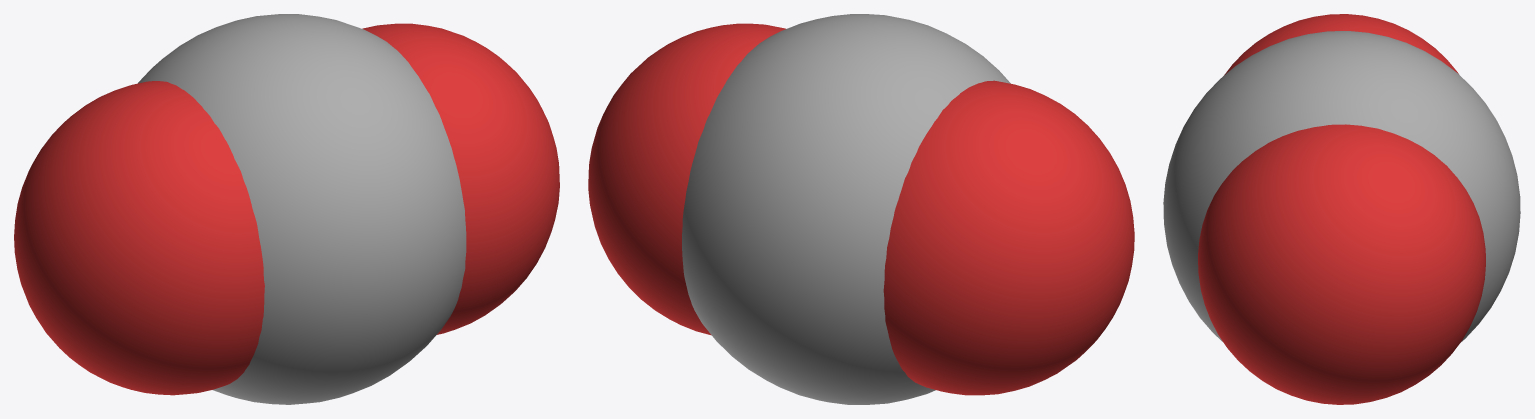
Rendered from moka.glb.
The picture shows the model from 3 angles, left to right: view 1: azimuth 30°, elevation 25°; view 2: azimuth 150°, elevation 25°; view 3: azimuth 270°, elevation 25°; orthographic projection. The views are drawn at different scales.
Visible parts, largest first — view 1: atoms; view 2: atoms; view 3: atoms.
Boxes of the visible parts, bbox=[...] form: atoms: bbox=[14, 14, 559, 404]; atoms: bbox=[588, 14, 1134, 404]; atoms: bbox=[1163, 14, 1520, 404].
Size of the model in its own units: 5.23 by 3.52 by 3.52.
